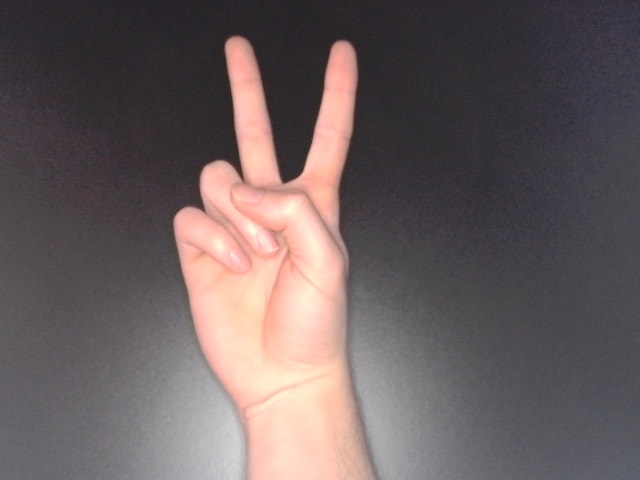v: (168, 31, 367, 414)
